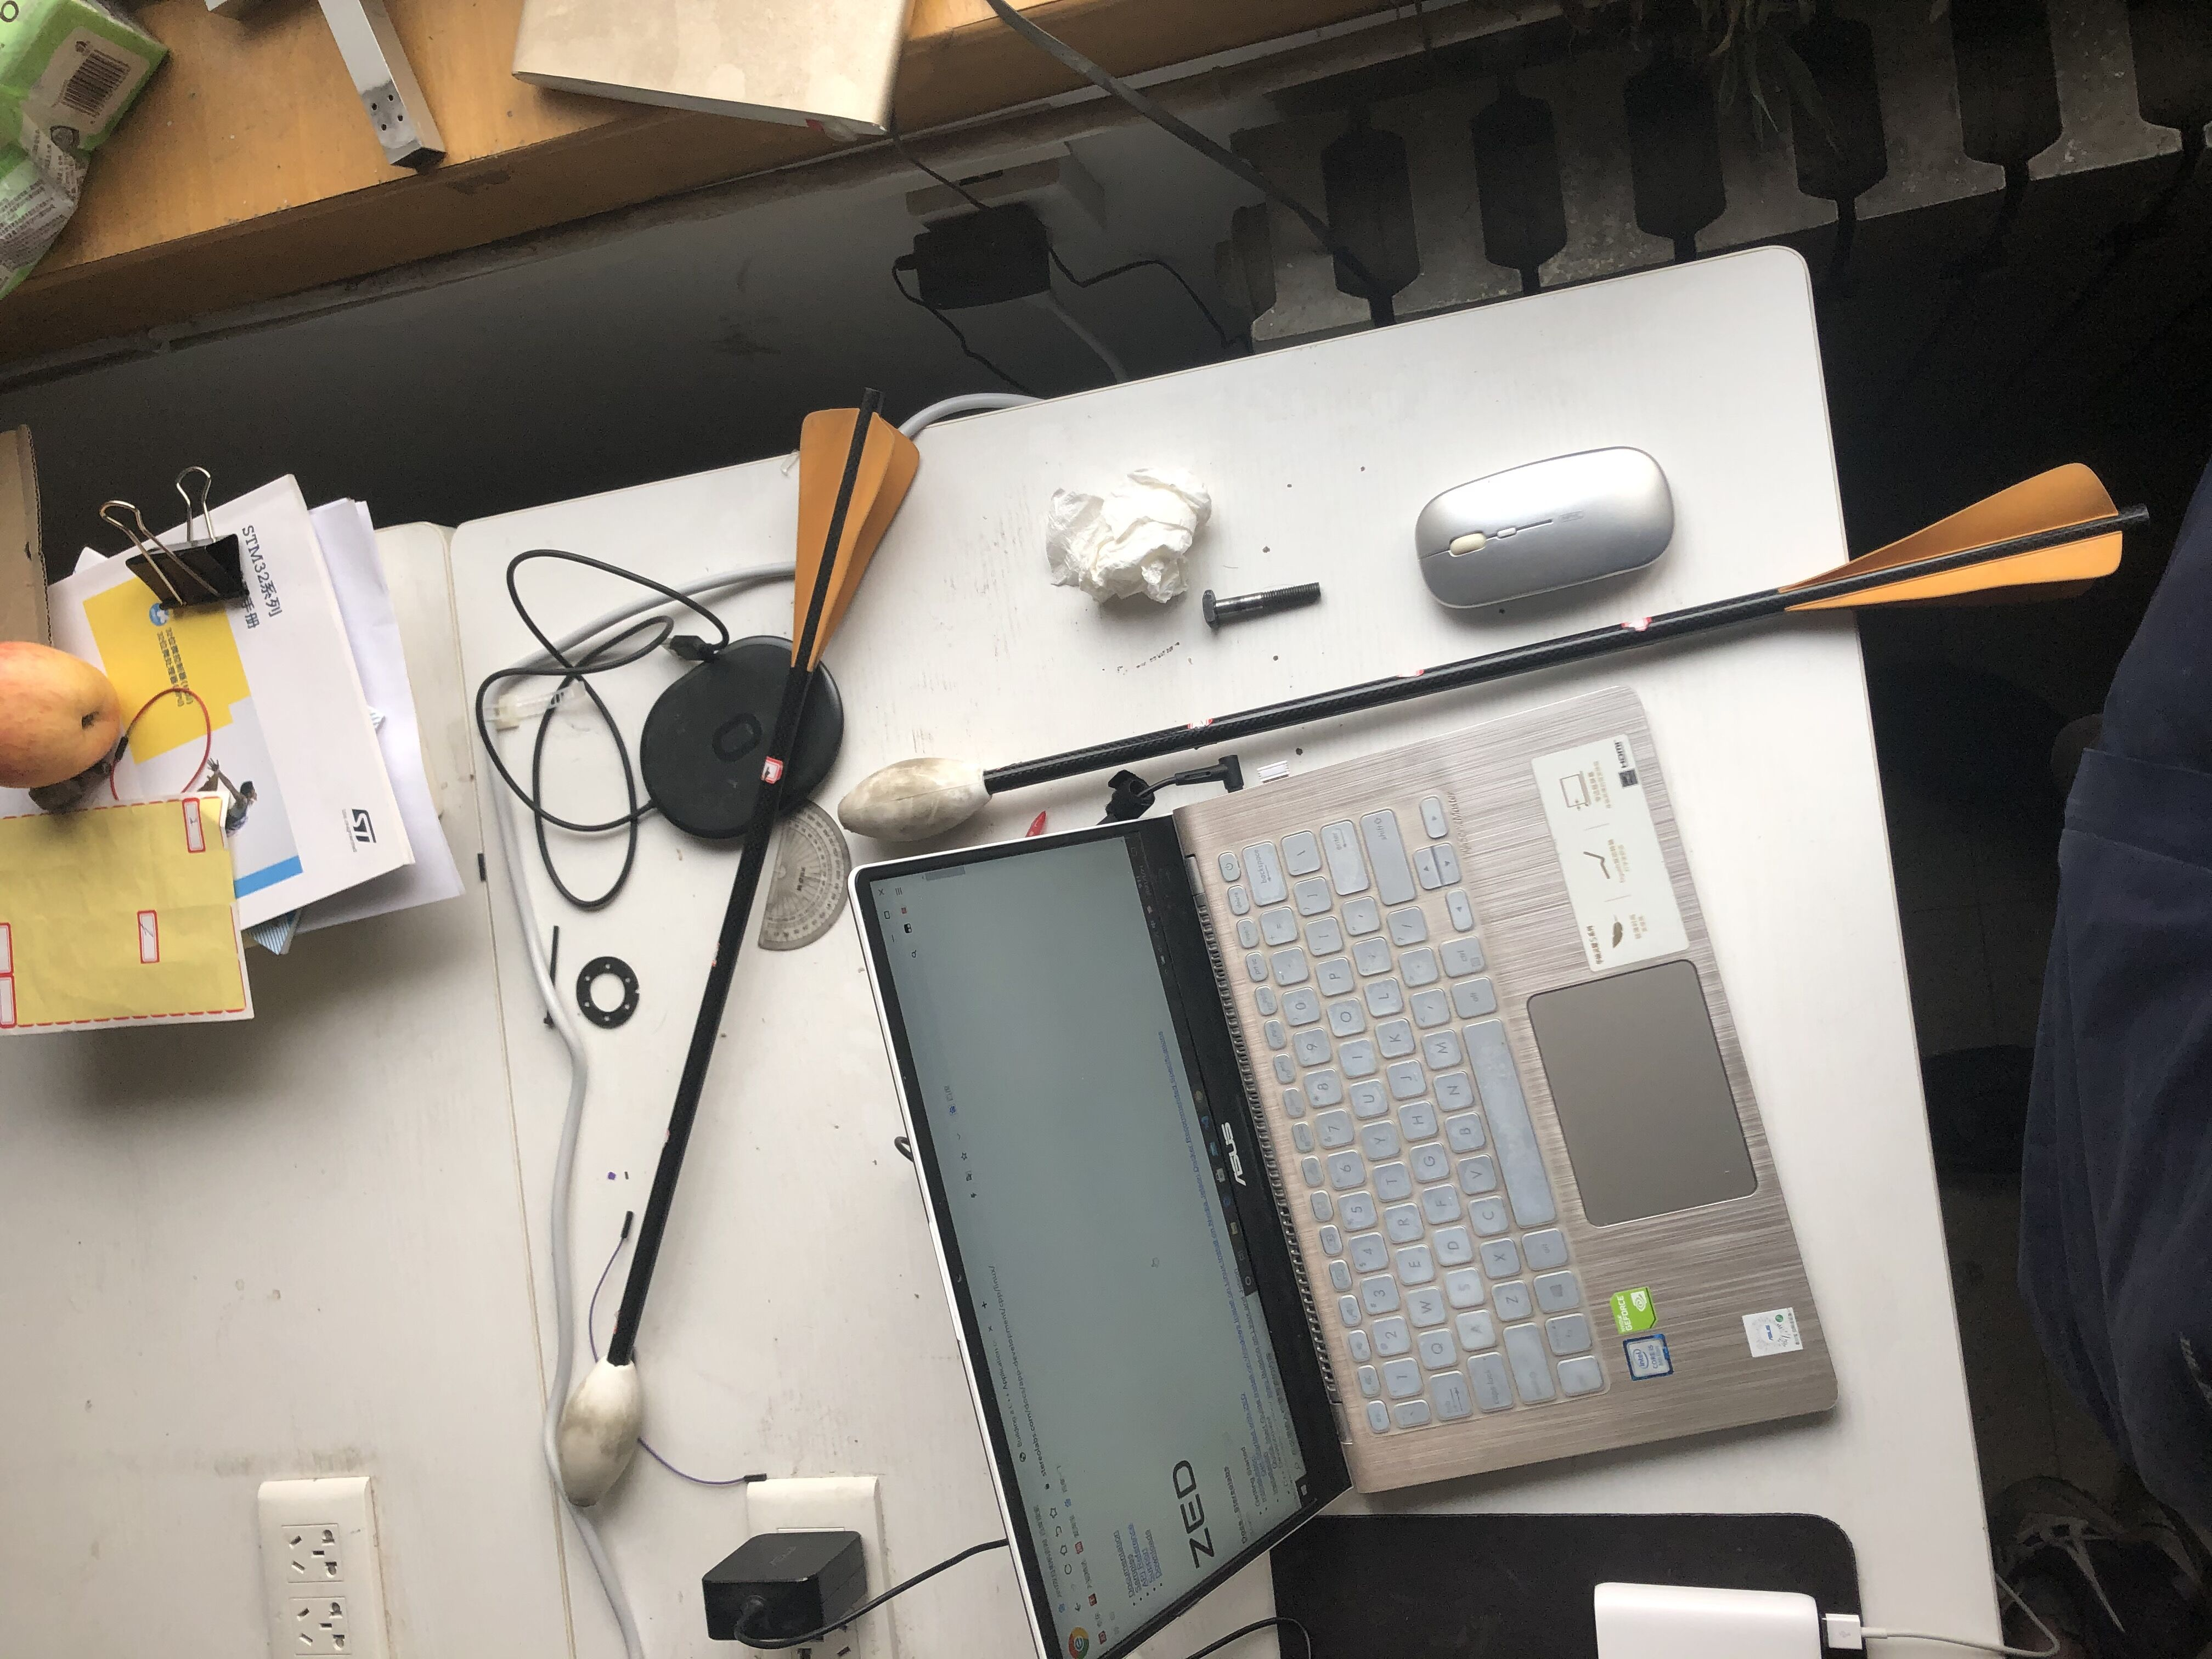arrow: (834, 460, 2156, 842), (556, 383, 920, 1509)
arrowFront: (559, 1354, 641, 1516), (838, 758, 996, 840)
